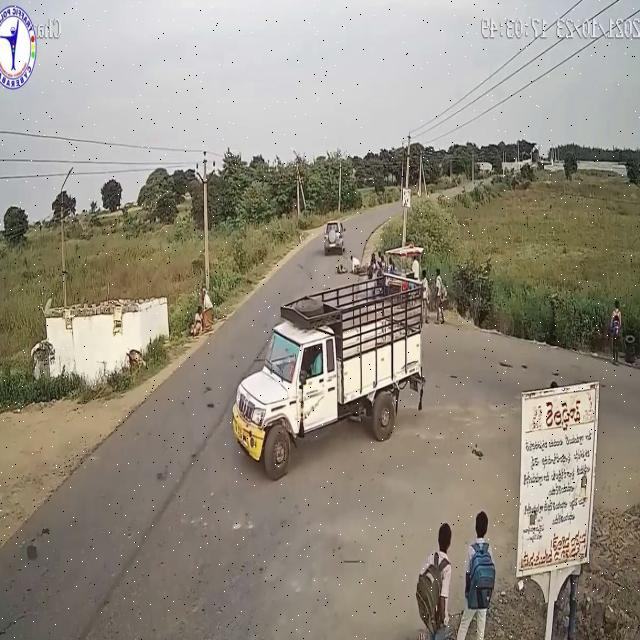accident: (321, 221, 371, 282)
